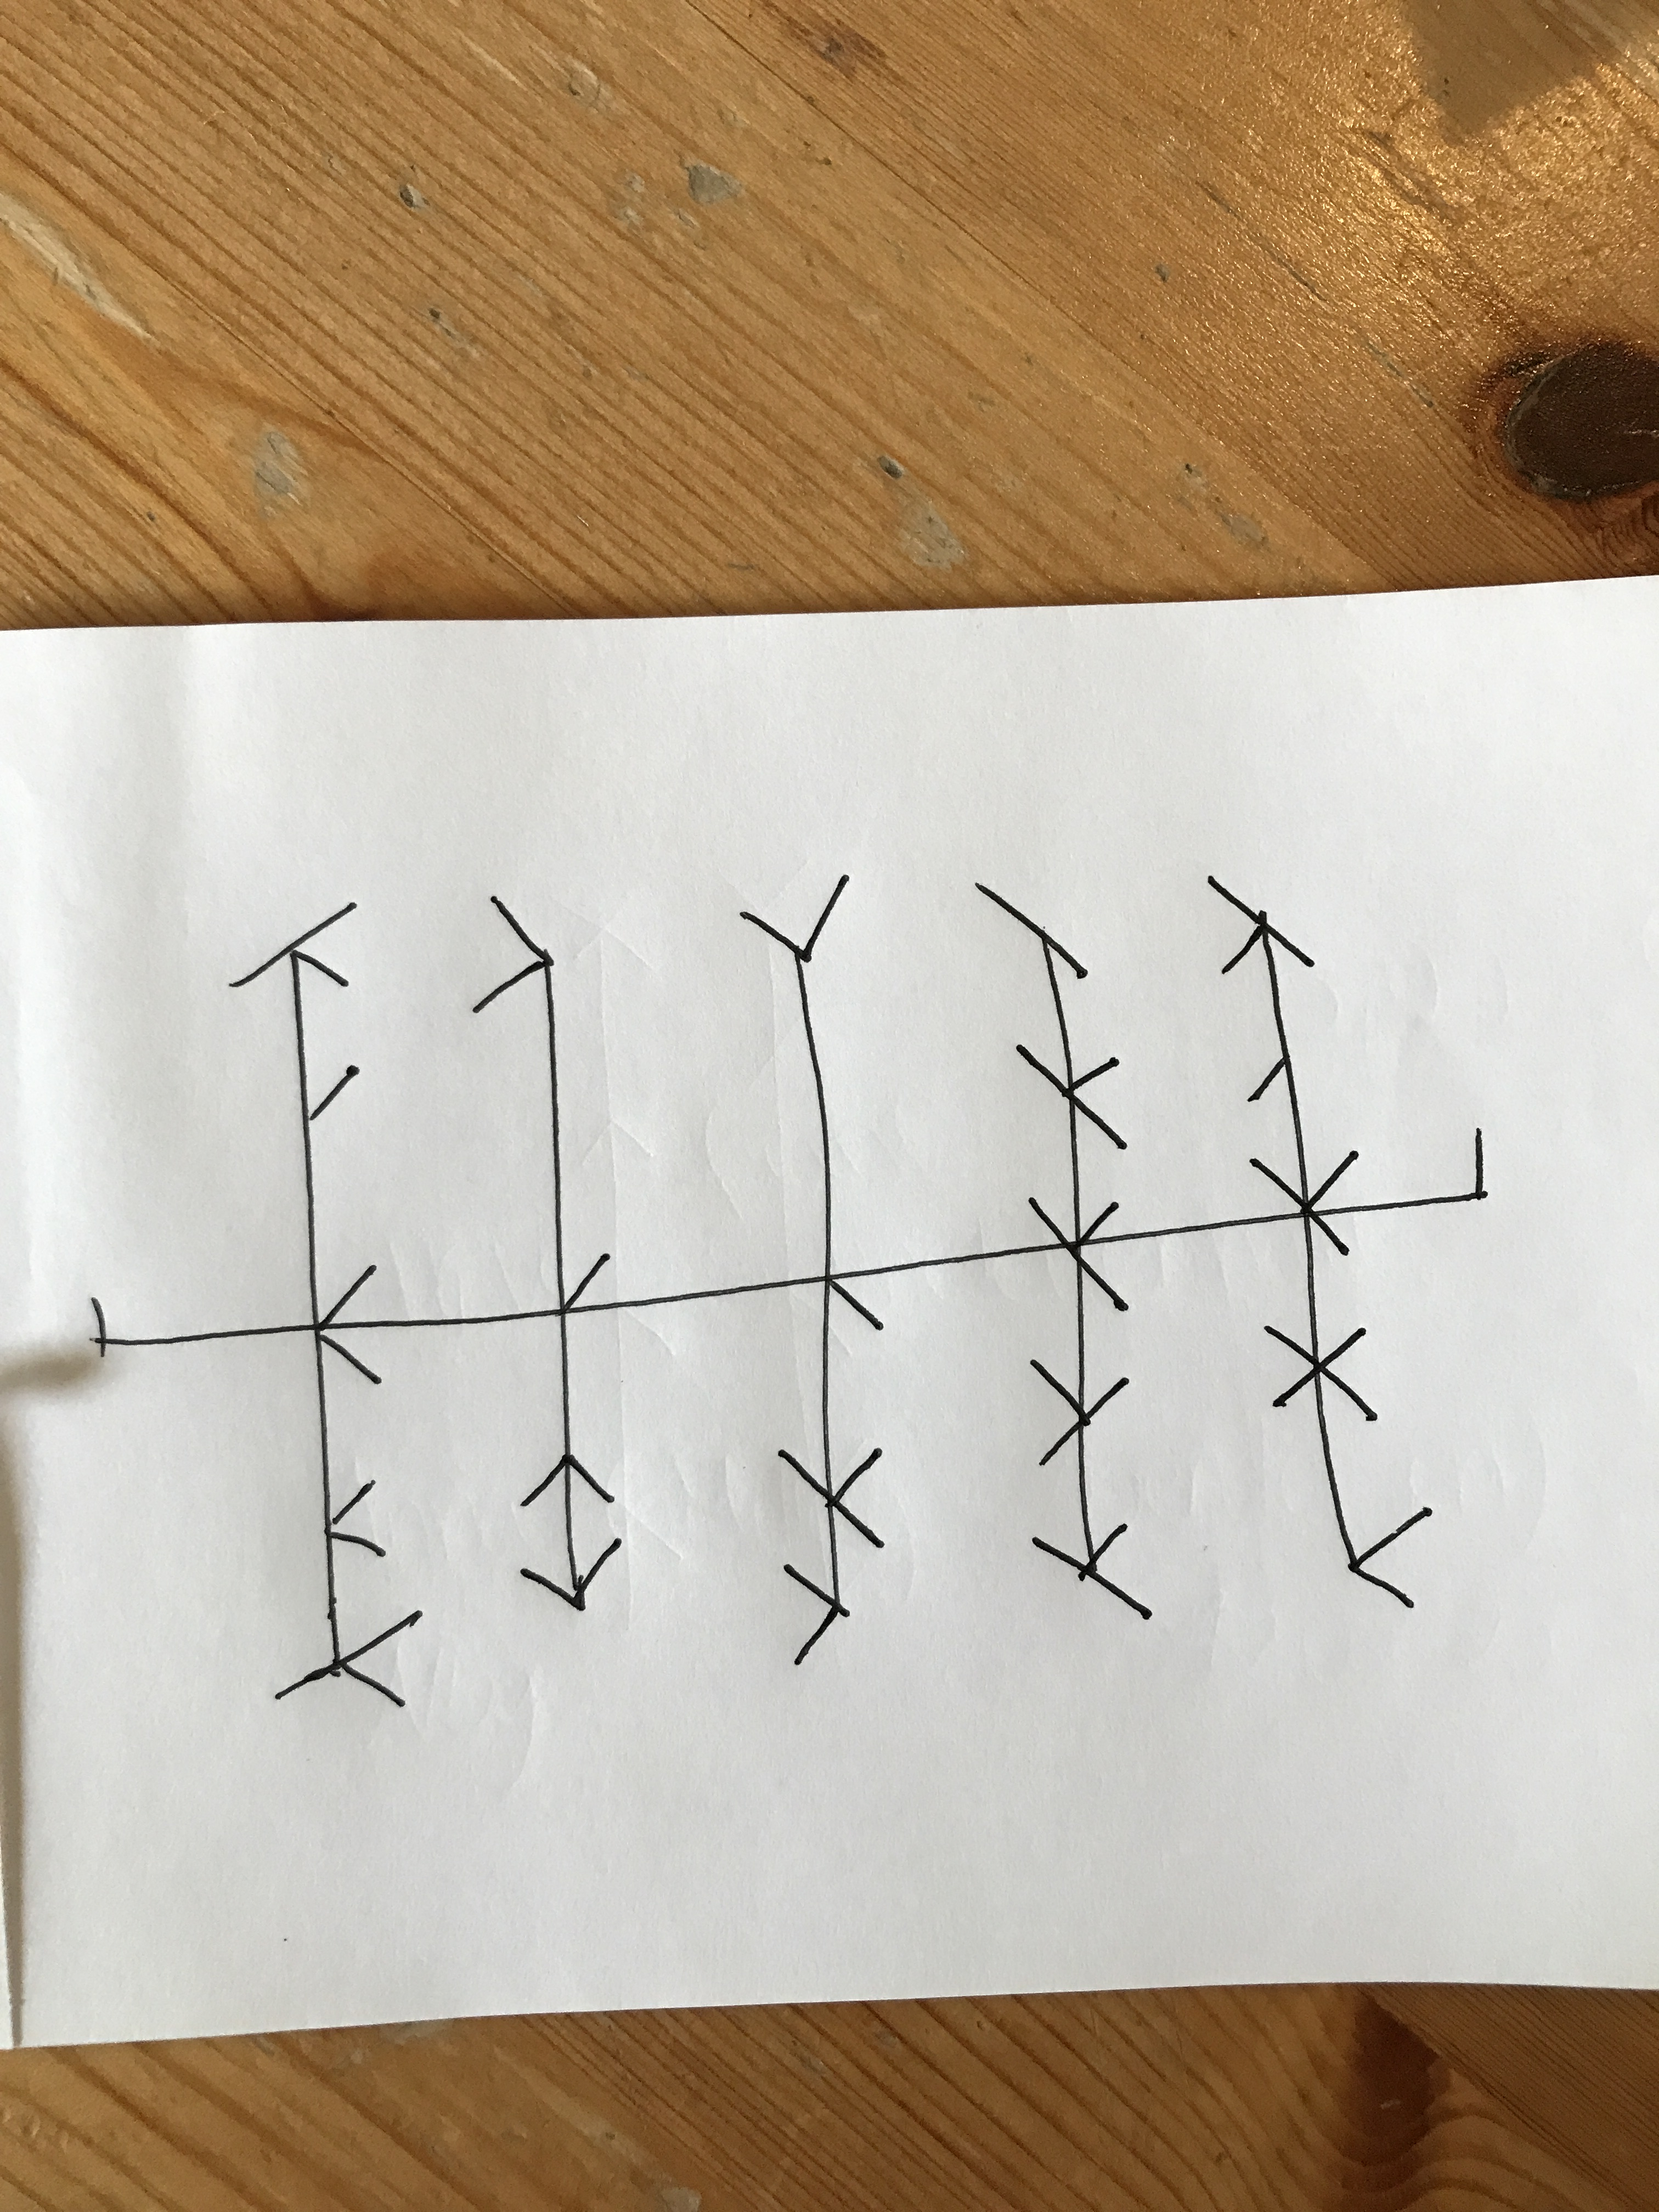Bar: (1206, 874, 1436, 1609), (232, 899, 423, 1709), (971, 883, 1154, 1618), (739, 873, 887, 1670), (471, 892, 622, 1611)
Barcode: (91, 873, 1492, 1707)
End: (1359, 1127, 1488, 1212)
Start: (91, 1292, 308, 1357)
